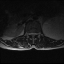CCS_normal: (32, 30, 34, 38)
LFS_normal: (36, 30, 38, 36)
LLS_normal: (34, 30, 36, 37)
RFS_normal: (28, 30, 30, 36)
RLS_normal: (30, 30, 32, 36)
